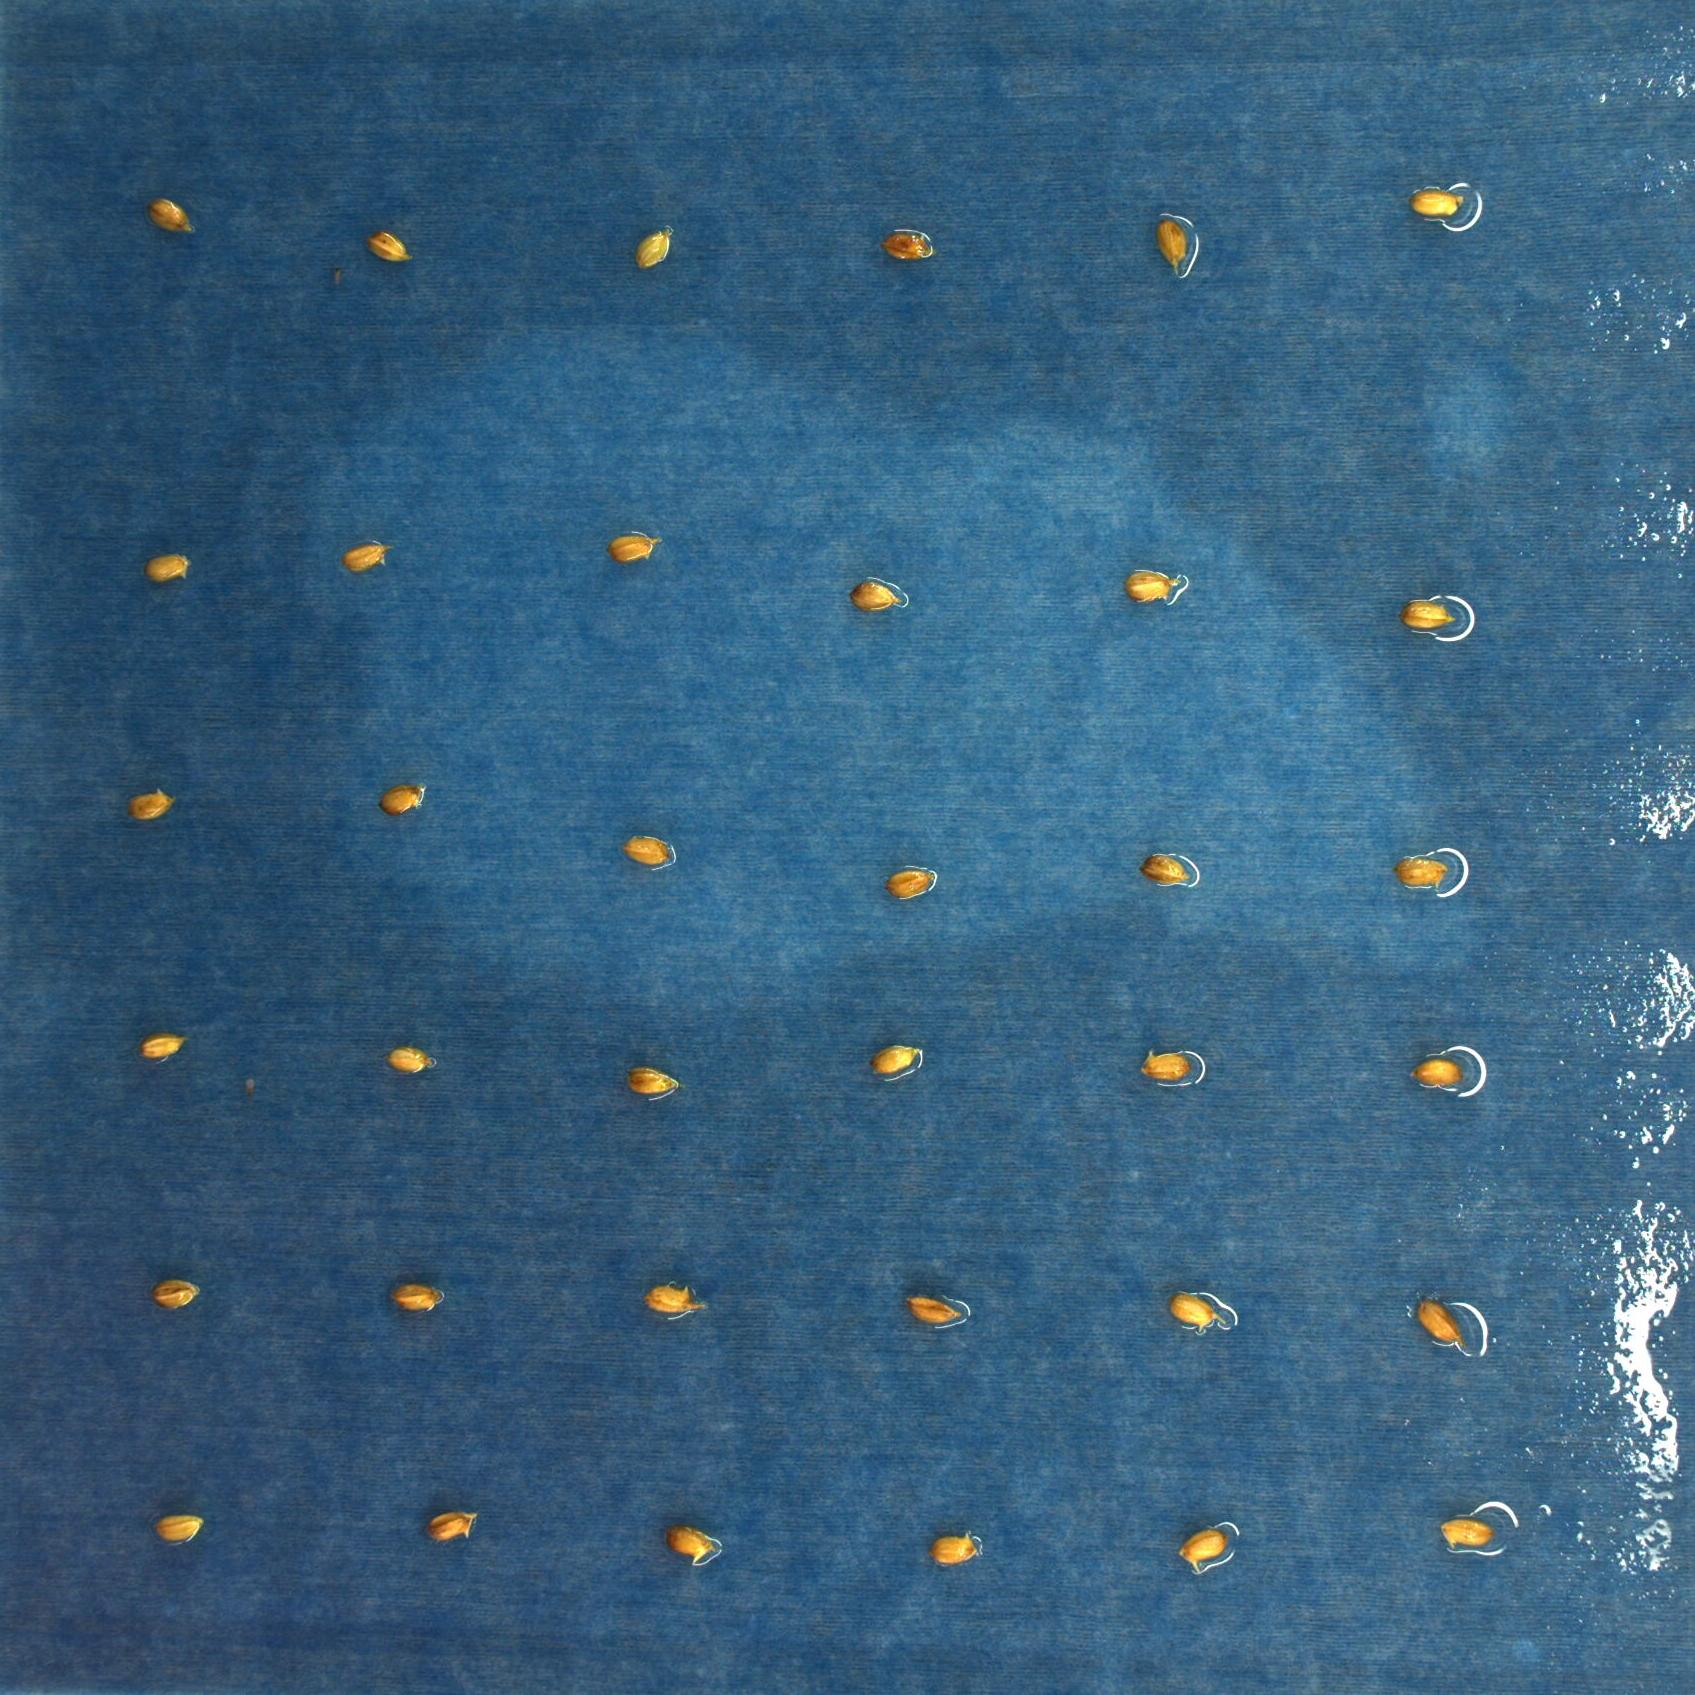not sprout: (1416, 1296, 1468, 1350), (1121, 567, 1187, 607), (1153, 216, 1194, 281), (641, 1281, 706, 1319), (902, 1291, 965, 1330), (1167, 1291, 1225, 1333), (927, 1530, 984, 1569), (1405, 1055, 1470, 1090), (1177, 1527, 1228, 1571), (147, 1273, 200, 1315), (385, 1279, 442, 1316), (1391, 854, 1450, 889), (667, 1524, 719, 1565), (151, 1509, 203, 1548), (147, 197, 196, 239), (622, 1065, 681, 1099), (1437, 1516, 1496, 1551), (1141, 851, 1197, 886), (424, 1507, 477, 1544), (1136, 1048, 1194, 1082), (1408, 186, 1467, 219), (1399, 598, 1458, 630), (605, 529, 661, 563), (844, 581, 900, 615), (869, 1045, 925, 1079), (365, 228, 418, 264), (124, 789, 177, 824), (137, 1028, 189, 1063), (633, 225, 671, 273), (341, 539, 391, 574), (882, 230, 934, 262), (624, 834, 674, 868), (885, 868, 934, 902), (144, 553, 192, 585), (376, 785, 422, 816), (386, 1045, 436, 1073)
